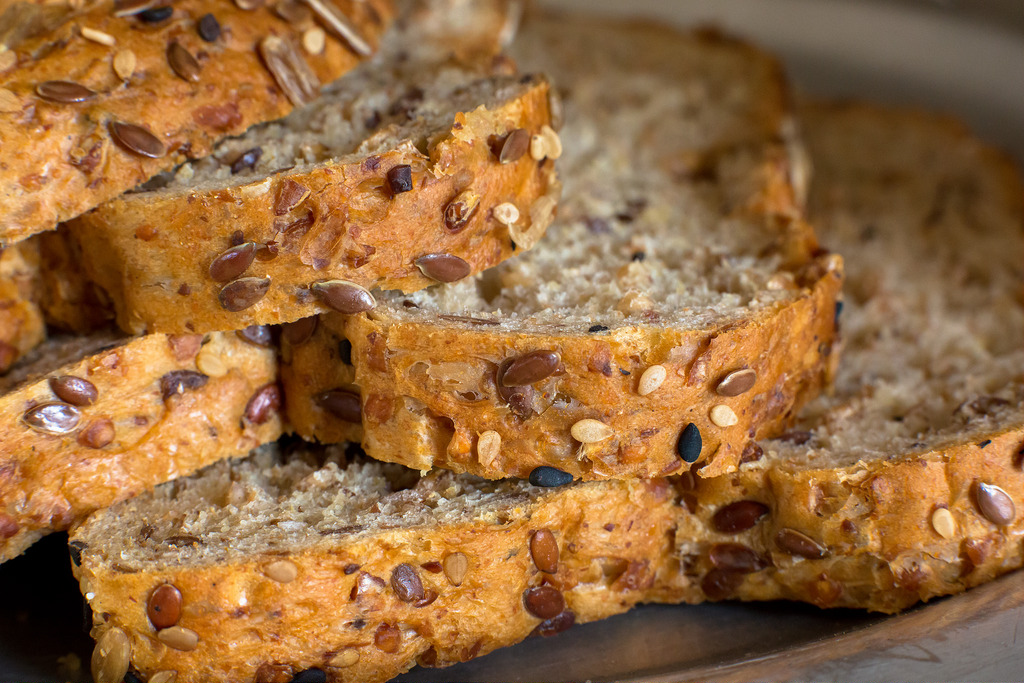slice of bread: (327, 279, 875, 466), (86, 141, 622, 297)
